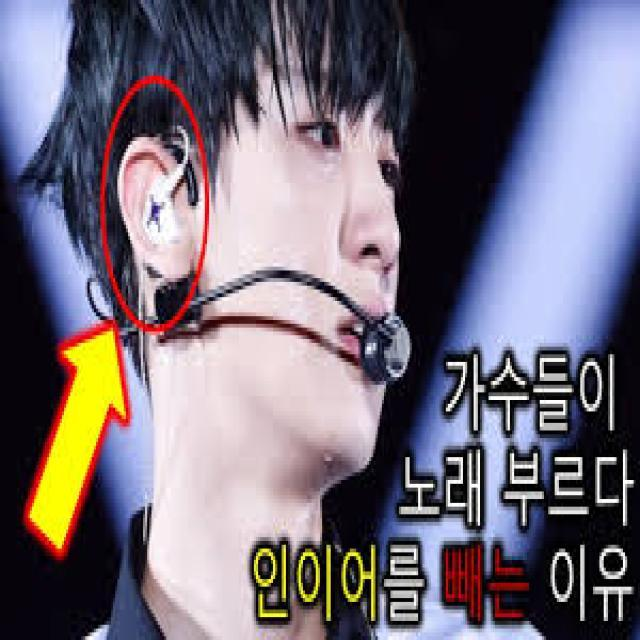earphone: (137, 157, 195, 245)
